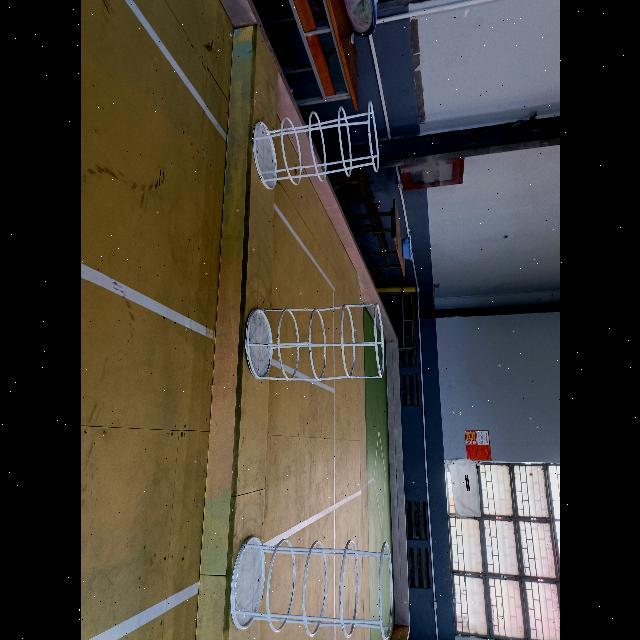S: (220, 534, 396, 640), (240, 298, 387, 384), (252, 99, 382, 190)
